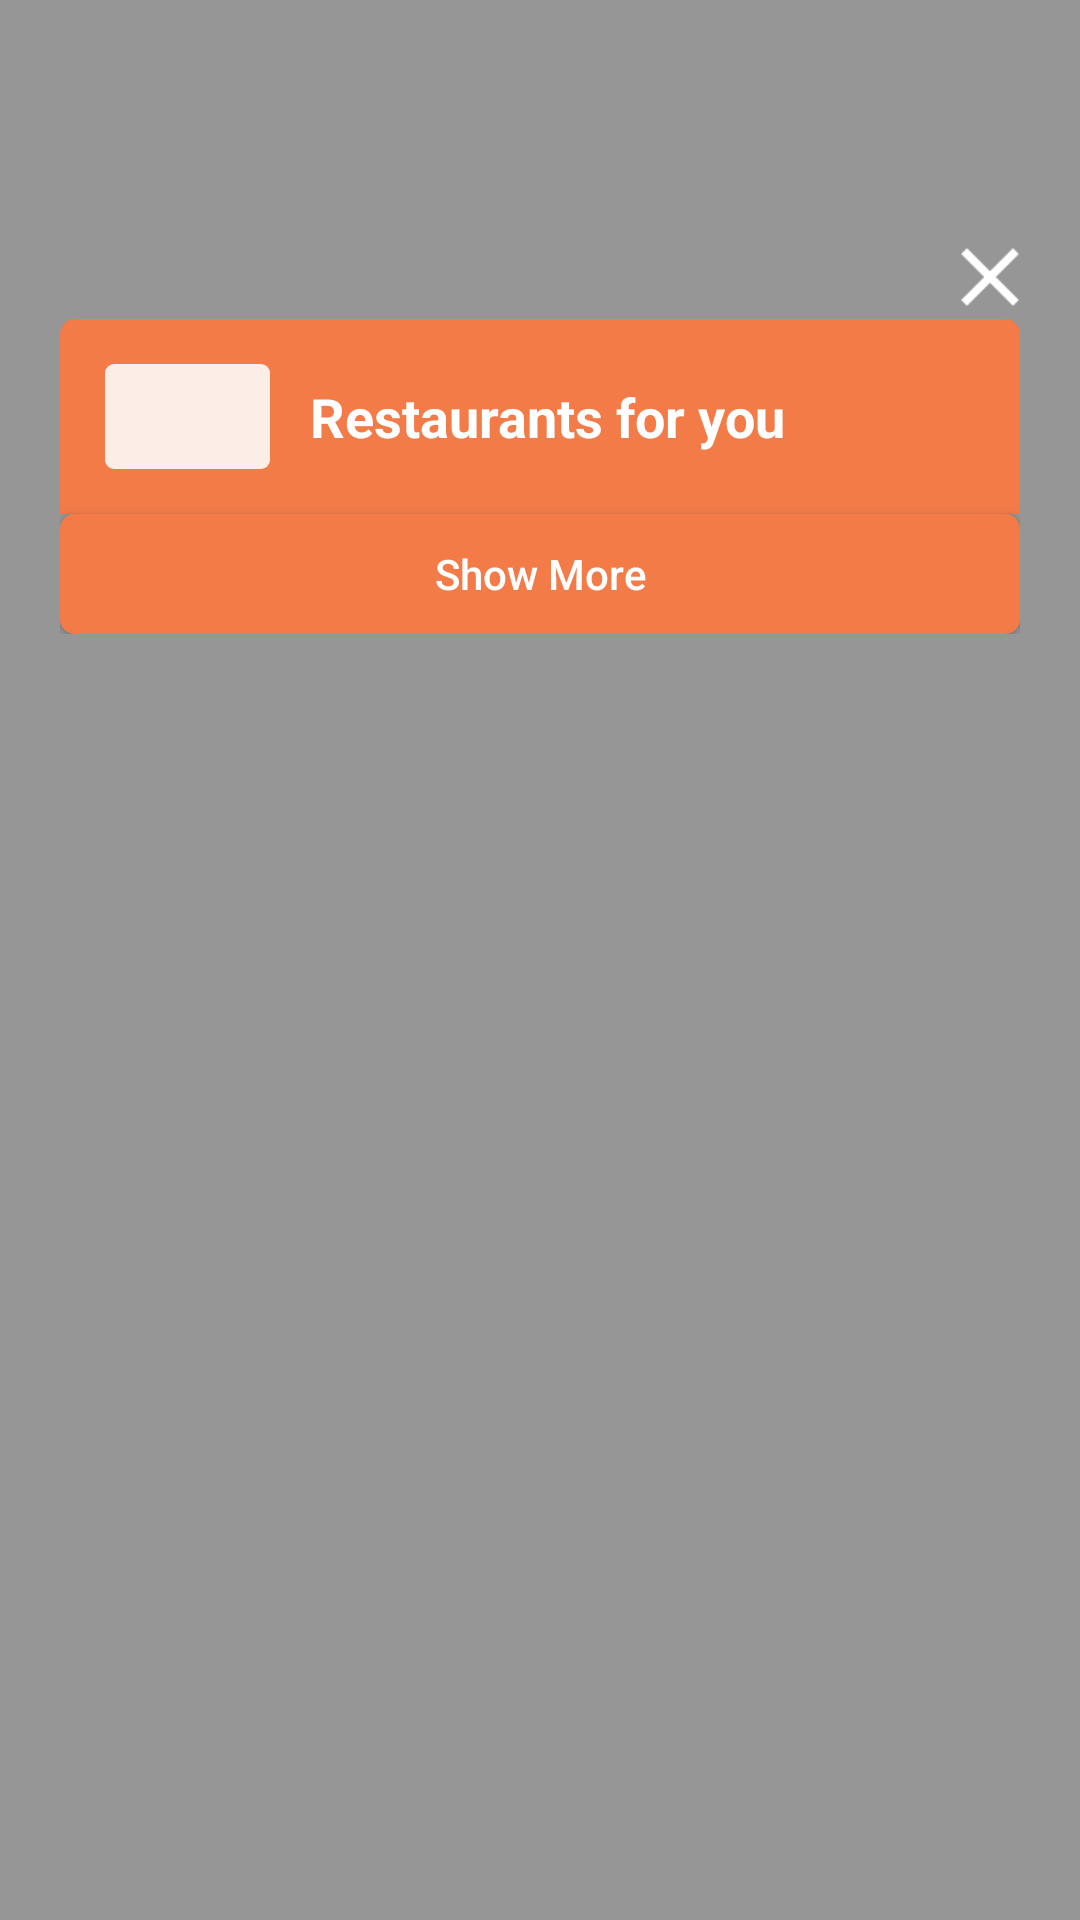

Icon bounding boxes for this 1080w x 1920h phone screenshot, format [x1,y1,x2,y2]:
close: [961,248,1019,306]
